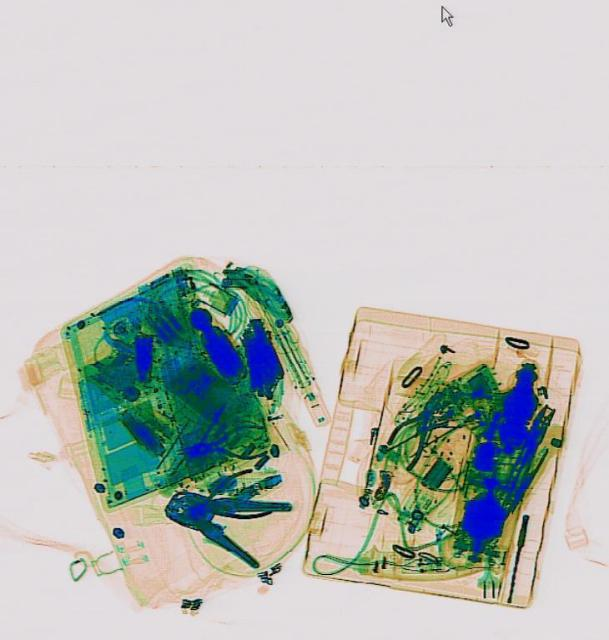Pliers: (154, 462, 294, 572), (376, 376, 460, 472), (178, 464, 274, 534), (172, 419, 269, 471)
